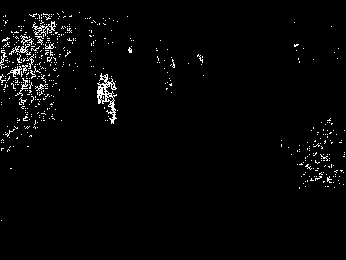person: (95, 73, 120, 126), (154, 40, 175, 95)
